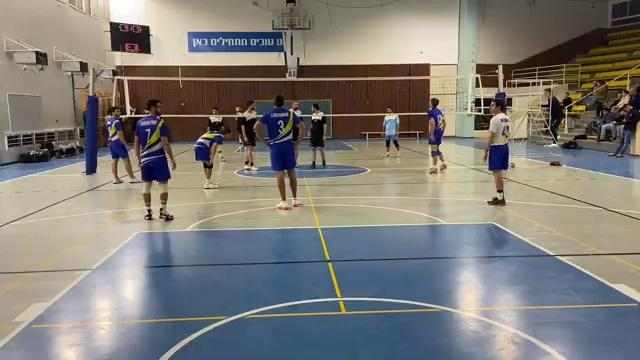ball: (234, 105, 242, 113)
